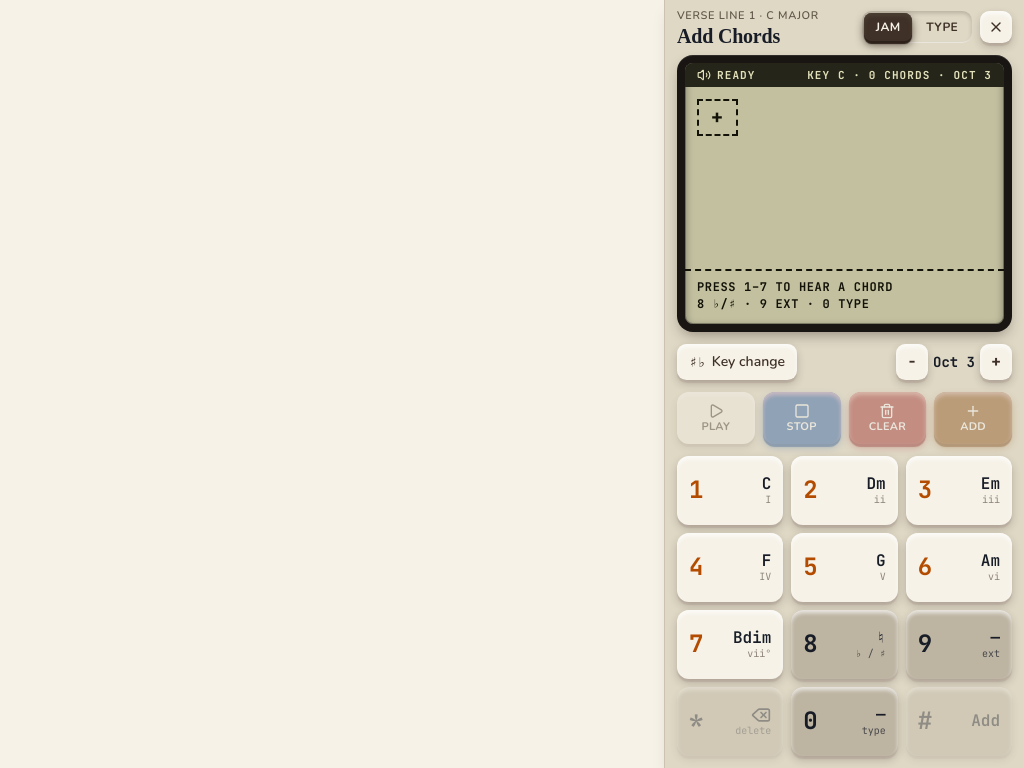
Scenario: JamCanvas › key change › picking a key re-labels the number pad and new chords use it
The width and height of the screenshot is (1024, 768).
Later steps or results of the test are not shown.
Step 1. Click the button named "1, " → (730, 490), box [677, 456, 783, 525]
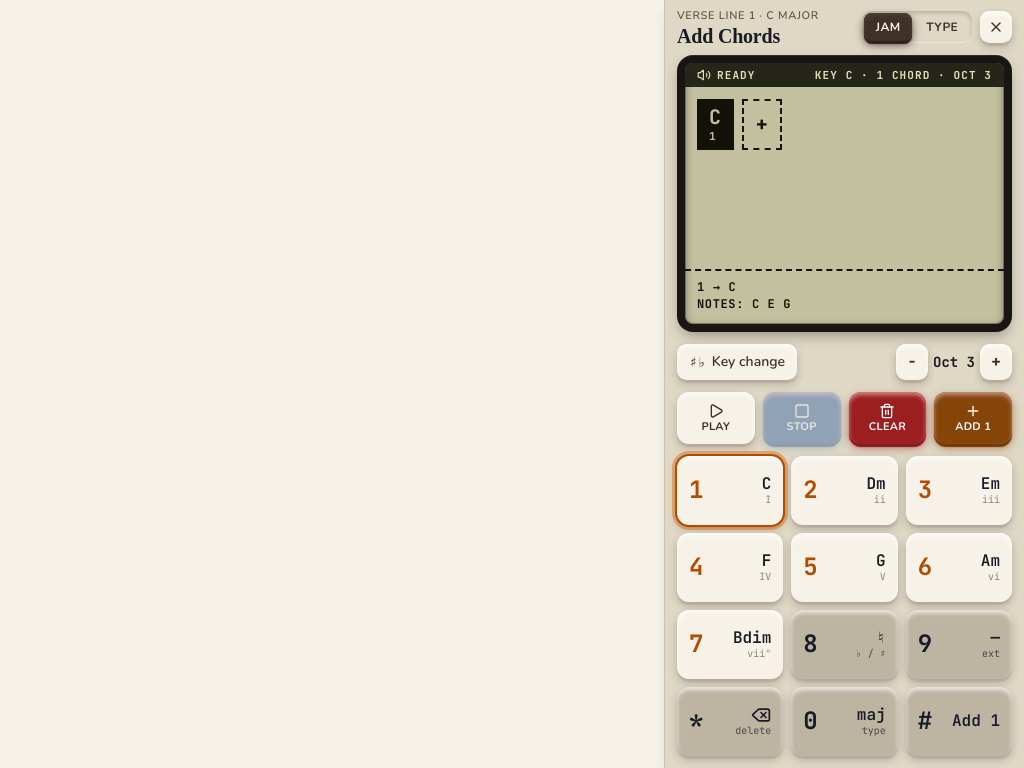
Step 2. Click the button "♯♭ Key change" → (737, 362), box [677, 344, 797, 380]
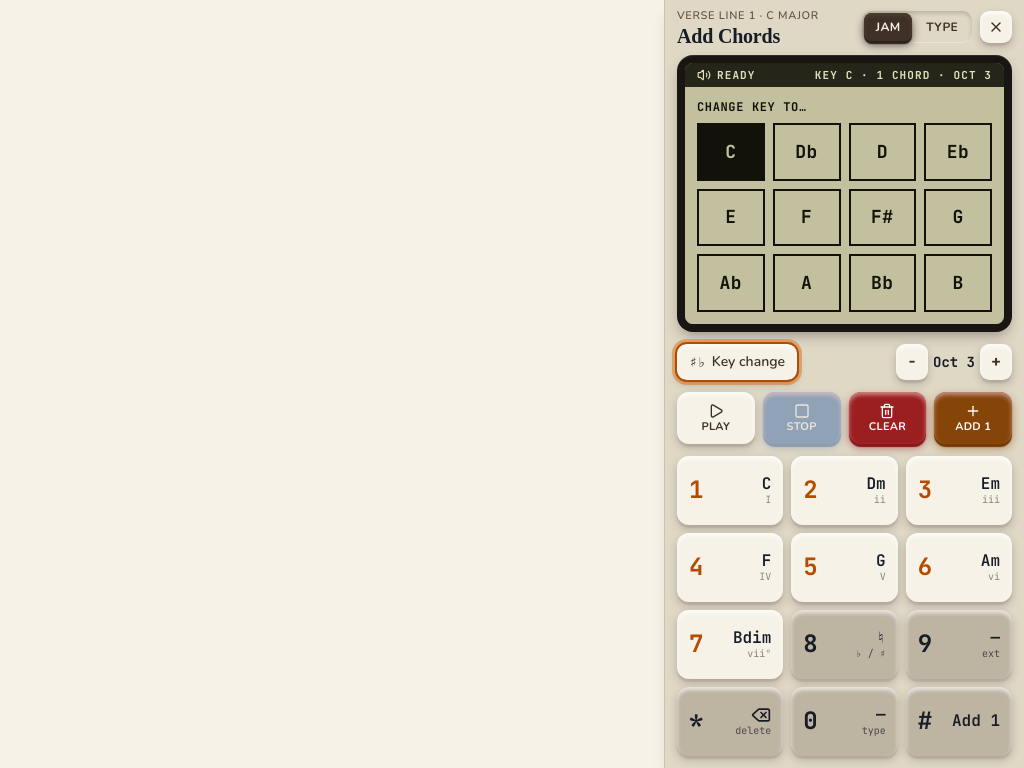
Step 3. Click the button named "Key of G" → (958, 217), box [924, 188, 992, 246]
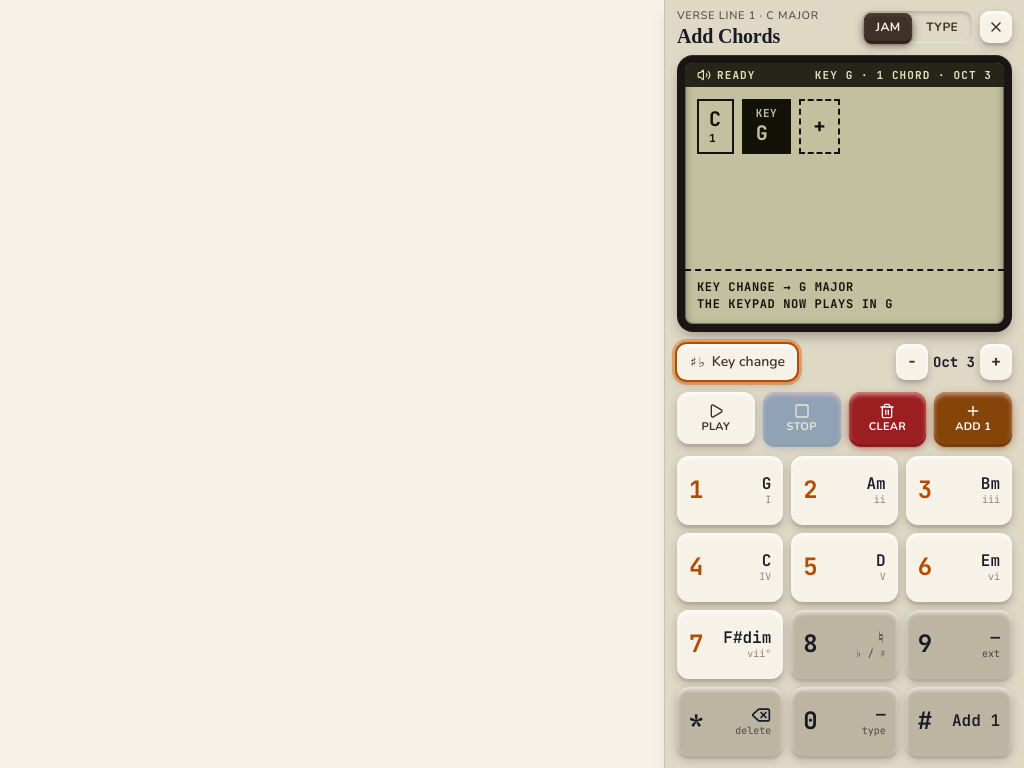
Result: the button named "1, G" is shown at [677, 456, 783, 525]
Result: the button named "5, D" is shown at [791, 533, 898, 602]
